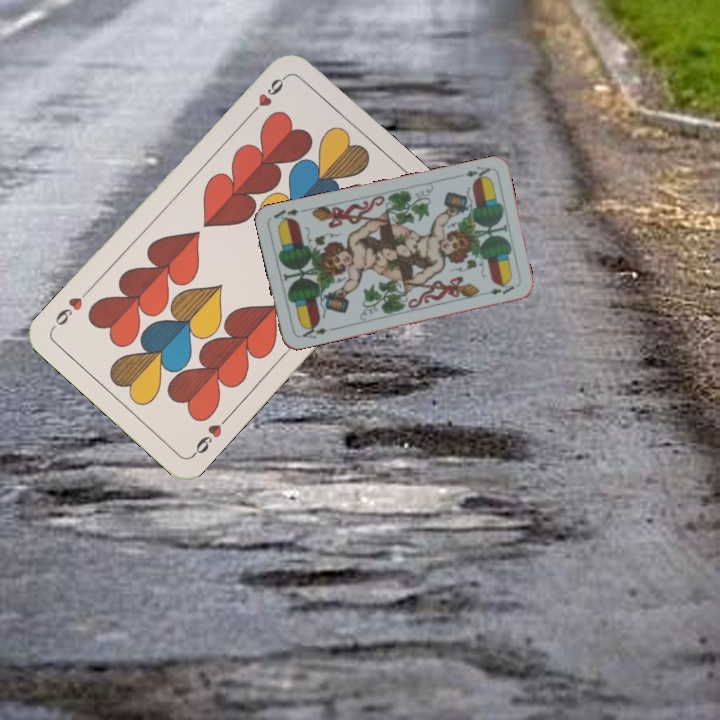EA: (295, 321, 330, 341), (461, 162, 493, 183)
H9: (187, 412, 232, 459), (245, 71, 289, 119)
